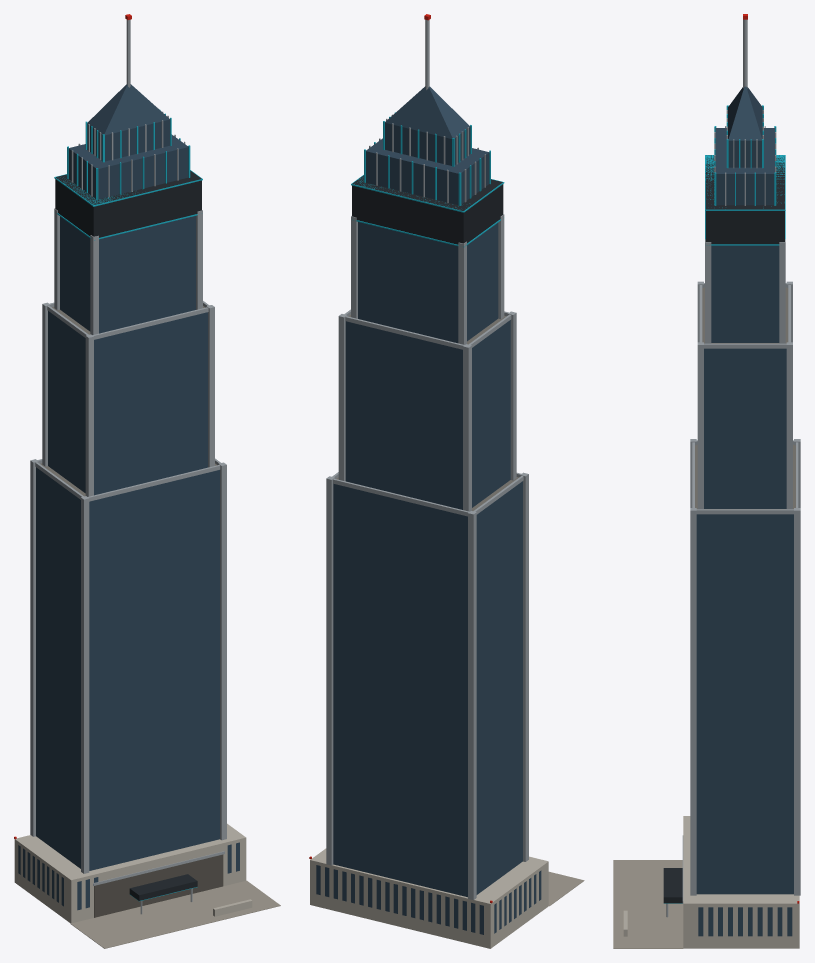
Rendered from speedscan_far.glb.
3 views of the same model, side by side, from view 1: azimuth 30°, elevation 25°; view 2: azimuth 150°, elevation 25°; view 3: azimuth 270°, elevation 25° (orthographic). The views are drawn at different scales.
Visible parts, largest first — view 1: hq_2; view 2: hq_2; view 3: hq_2.
Boxes of the visible parts, <box> form: hq_2: <box>14,14,280,948</box>; hq_2: <box>309,14,584,948</box>; hq_2: <box>613,14,800,948</box>.
Bounding box in the file's own units: 84.8 × 397 × 75.6.
